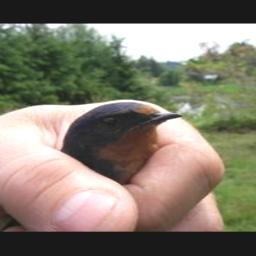Swallow: (58, 99, 186, 185)
